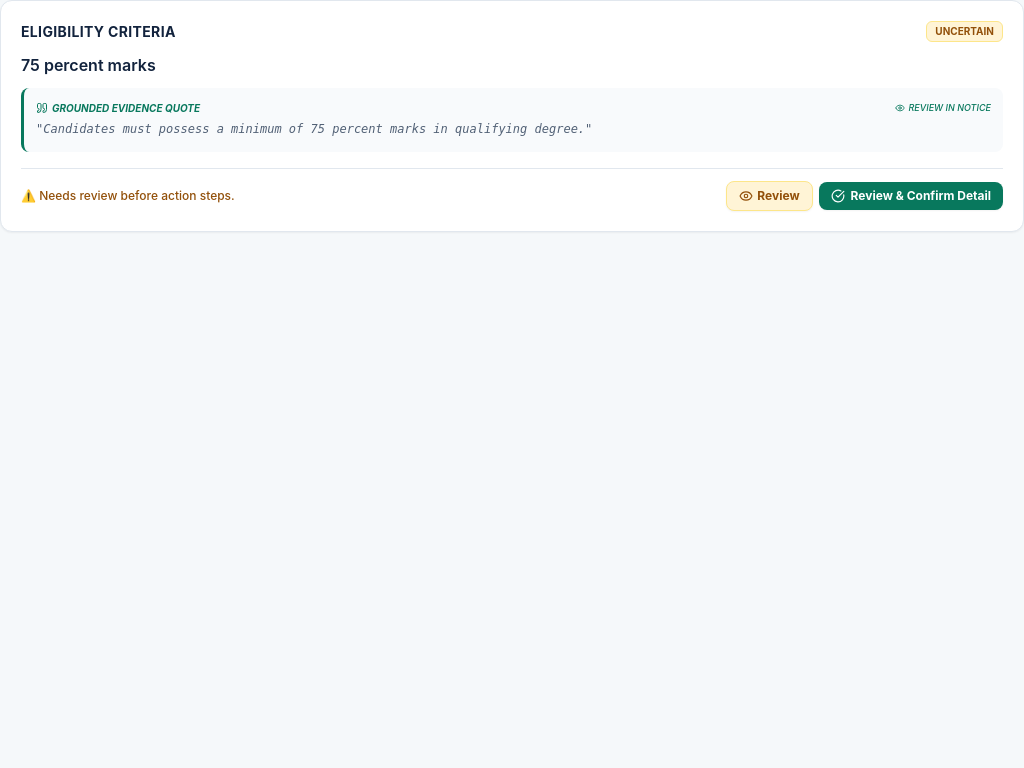
Test case: Click-to-Review Red Underline for OCR Notice Text › identifies page number and displays page badge for multi-page notice
The width and height of the screenshot is (1024, 768).
Step 1. Click the button with test id "review-btn-eligibility" → (769, 196), box x1=726 y1=181 x2=813 y2=211
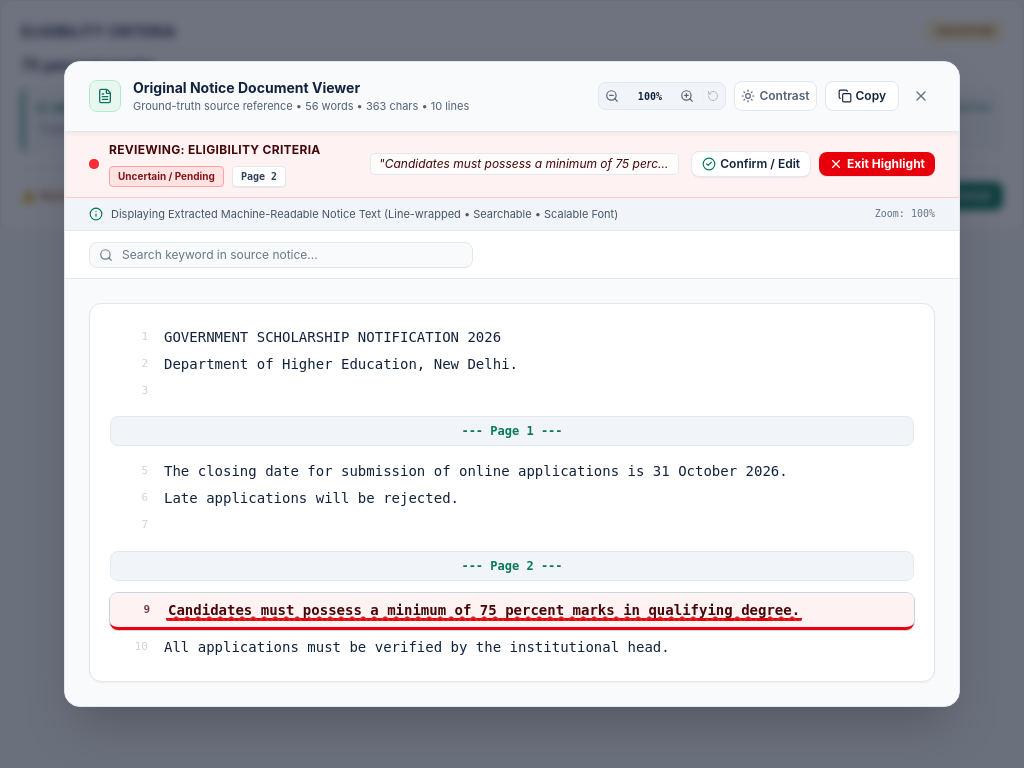
expect the text with test id "review-page-indicator" reads "Page 2": met, box x1=232 y1=166 x2=286 y2=186
